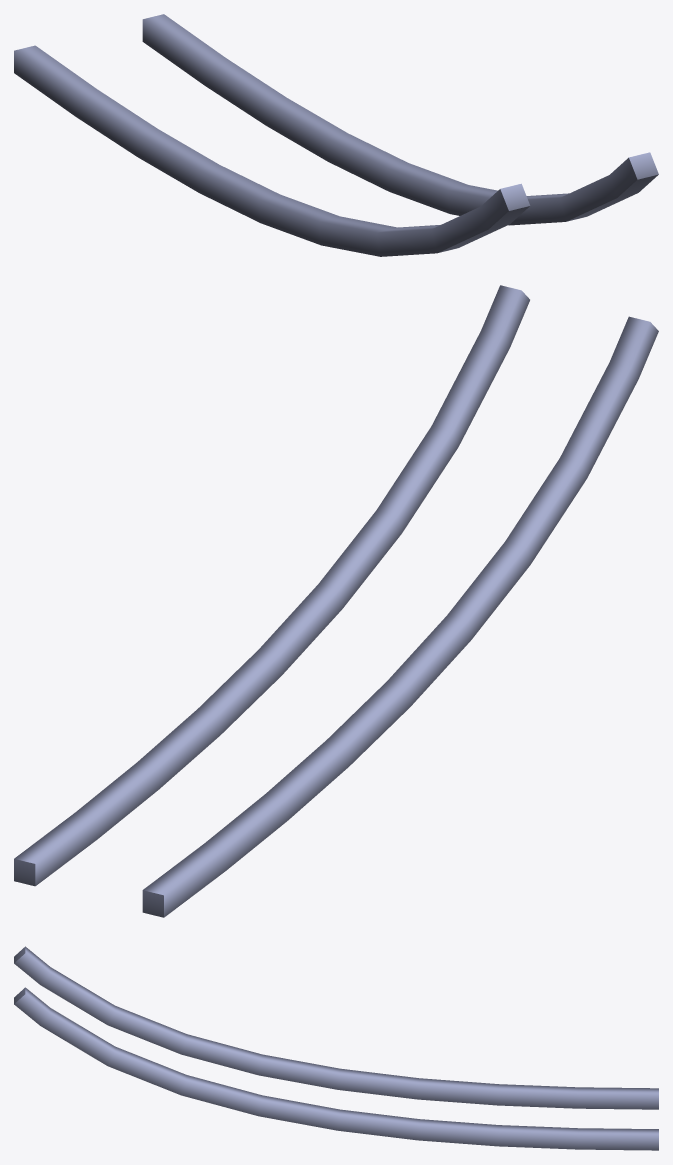
File: railroad-rail-straight-hill-beginning.glb
3 views of the same model, one above another, from view 1: azimuth 30°, elevation 25°; view 2: azimuth 150°, elevation 25°; view 3: azimuth 270°, elevation 25° (orthographic). The views are drawn at different scales.
Visible parts, largest first — view 1: railroad-rail-straight-hill-beginning; view 2: railroad-rail-straight-hill-beginning; view 3: railroad-rail-straight-hill-beginning.
Part boxes in pixels (bbox=[...]): railroad-rail-straight-hill-beginning: bbox=[14, 14, 658, 256]; railroad-rail-straight-hill-beginning: bbox=[14, 285, 658, 917]; railroad-rail-straight-hill-beginning: bbox=[14, 946, 658, 1150].
Size of the model in its own units: 0.7 by 1.07 by 4.
